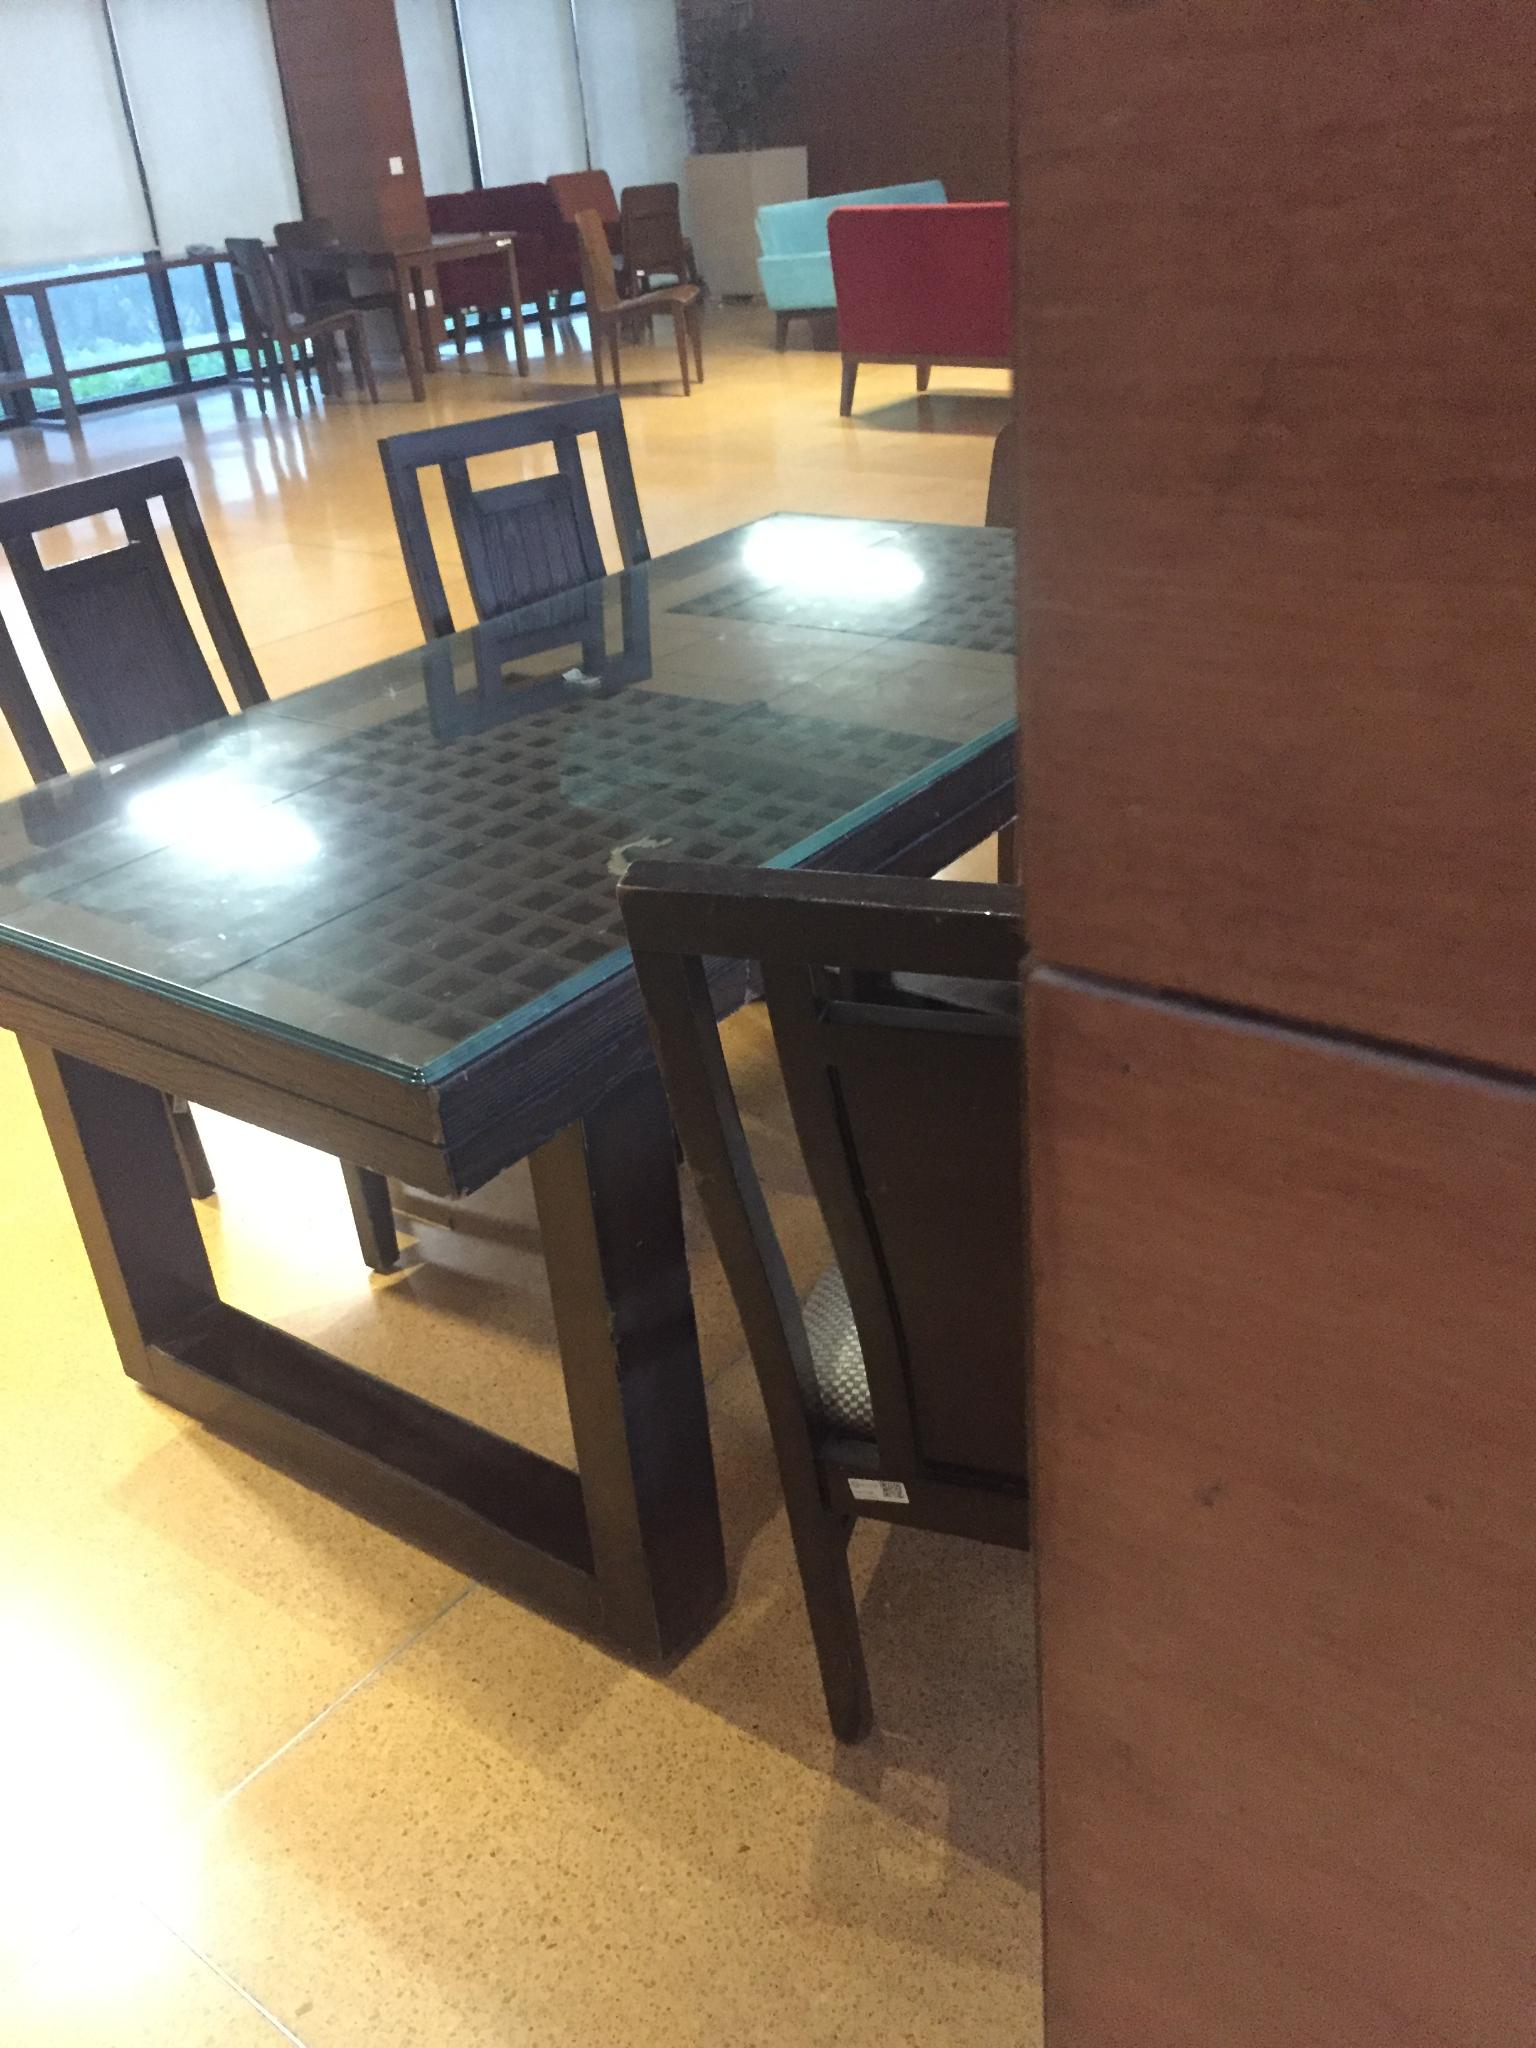chair: (615, 851, 1029, 1742), (0, 463, 415, 1277), (378, 390, 652, 640), (224, 235, 378, 419), (573, 206, 703, 395)
